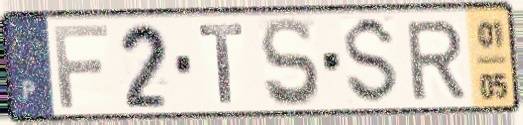2: (113, 17, 175, 114)
F: (50, 22, 112, 111)
R: (403, 16, 469, 103)
S: (257, 15, 323, 110), (342, 13, 402, 108)
T: (195, 20, 246, 106)
